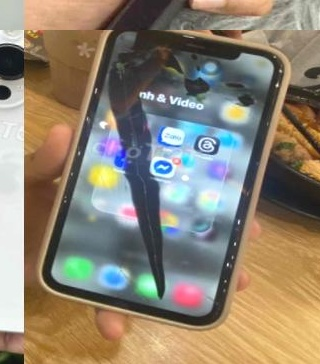physical_damage: (32, 30, 259, 318)
scratch: (42, 0, 112, 30)
screen_defect: (48, 30, 270, 323)
